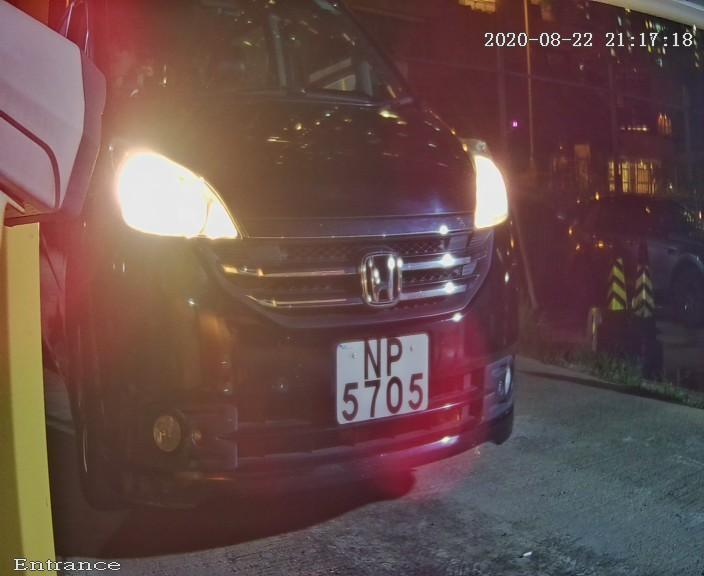Car: (23, 6, 598, 559)
License Plate: (321, 319, 437, 435)
